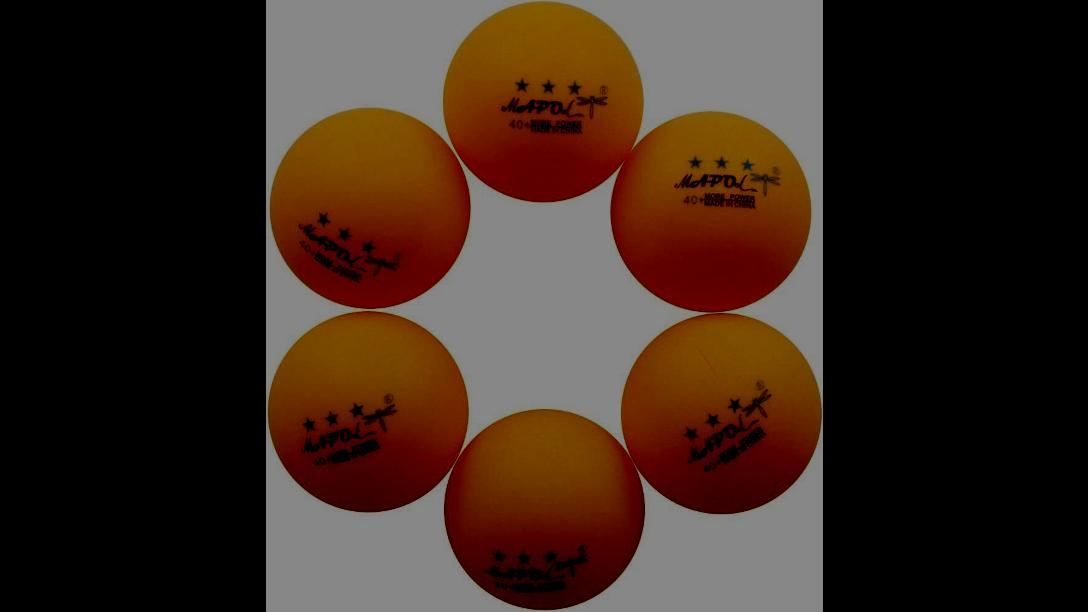Table-Tennis-Ball: (618, 312, 822, 514), (606, 112, 808, 314), (269, 106, 471, 308), (442, 407, 646, 607), (266, 312, 468, 512), (442, 0, 642, 200)
